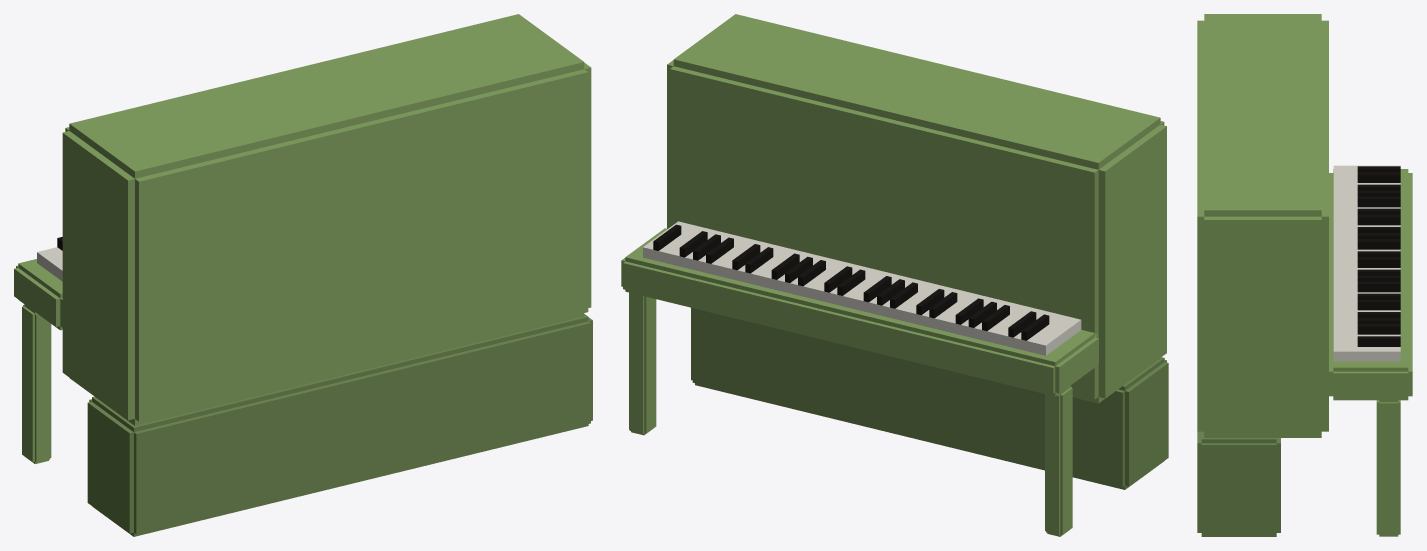
The model's file is cactus_piano_v0.glb.
3 renders of one model, left to right at view 1: azimuth 30°, elevation 25°; view 2: azimuth 150°, elevation 25°; view 3: azimuth 270°, elevation 25°, orthographic. The views are drawn at different scales.
Visible parts, largest first — view 1: cactus_piano_v0; view 2: cactus_piano_v0; view 3: cactus_piano_v0.
Part boxes in pixels (x1,y1,x2,y2): cactus_piano_v0: (14,14,592,536); cactus_piano_v0: (621,14,1168,536); cactus_piano_v0: (1197,14,1412,536).
Bounding box in the file's own units: 2 × 1.5 × 0.9.
